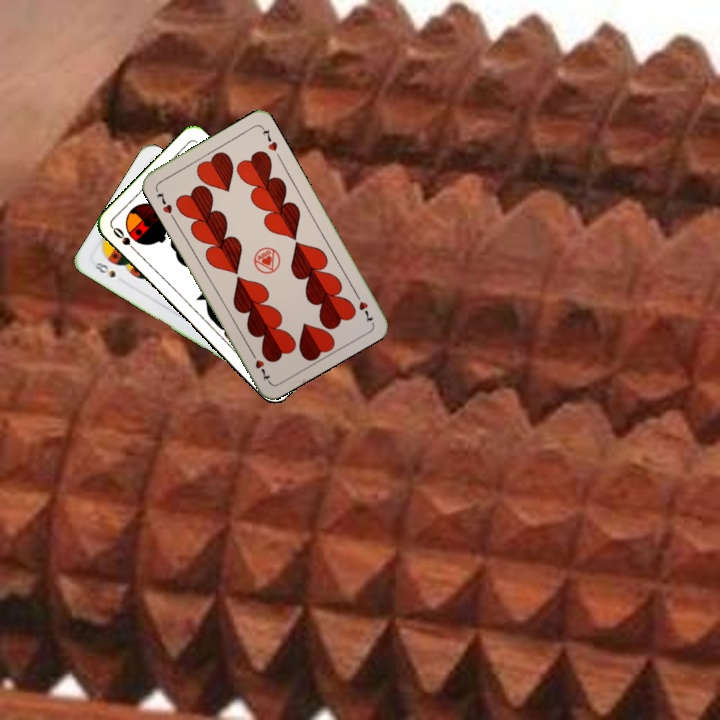H7: (351, 288, 376, 325), (153, 188, 175, 216)
S8: (89, 258, 118, 280)
SO: (109, 223, 141, 256)
